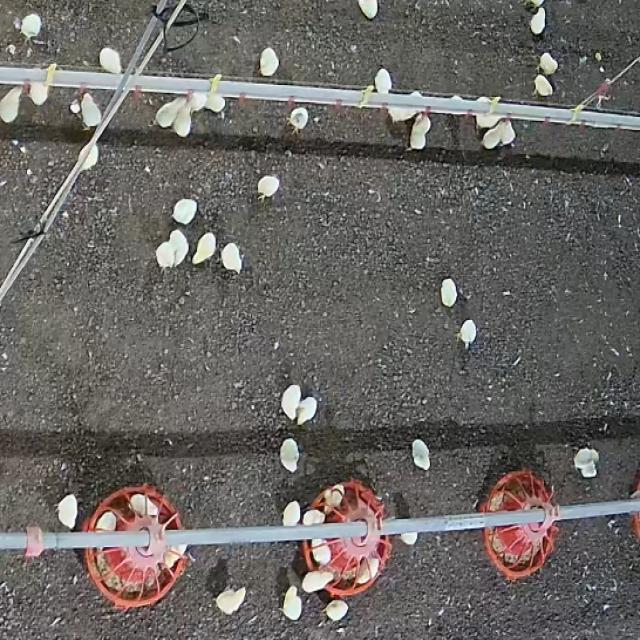broiler: (155, 97, 185, 127), (573, 447, 598, 478), (0, 86, 21, 122), (192, 232, 216, 263), (216, 587, 244, 613), (80, 93, 101, 126), (169, 230, 188, 266), (57, 494, 77, 528), (281, 586, 301, 619), (172, 104, 191, 137), (172, 199, 197, 224), (301, 571, 332, 591), (281, 385, 299, 418), (280, 438, 298, 471), (220, 243, 240, 272), (259, 46, 278, 76), (287, 106, 308, 133), (20, 13, 41, 39), (100, 46, 120, 73), (411, 440, 429, 470), (482, 122, 501, 149), (257, 175, 279, 198), (458, 320, 476, 348), (156, 242, 175, 268), (388, 106, 418, 122), (440, 279, 457, 307), (324, 600, 347, 620), (299, 397, 316, 424), (203, 92, 224, 113), (29, 82, 48, 105), (375, 68, 392, 93), (530, 7, 545, 35), (499, 120, 515, 145), (539, 52, 557, 74), (282, 501, 299, 524), (81, 145, 96, 170), (533, 74, 551, 94), (358, 0, 376, 19), (475, 113, 499, 126), (189, 92, 206, 110), (410, 133, 425, 149), (400, 532, 416, 544)
pipe: (217, 81, 490, 114), (165, 520, 369, 546), (495, 101, 639, 130), (379, 510, 545, 534), (40, 530, 149, 550), (554, 499, 639, 520), (127, 77, 209, 94), (53, 72, 122, 90), (0, 66, 45, 84), (0, 532, 34, 550)
rice: (82, 485, 191, 609), (300, 481, 390, 599), (477, 470, 558, 579)
